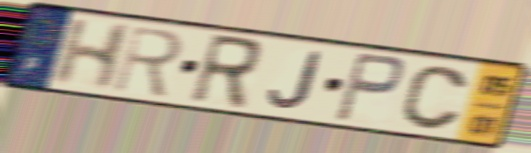C: (397, 63, 472, 133)
H: (48, 17, 137, 92)
J: (265, 49, 325, 112)
P: (331, 50, 408, 126)
R: (185, 31, 265, 113), (109, 23, 185, 100)
